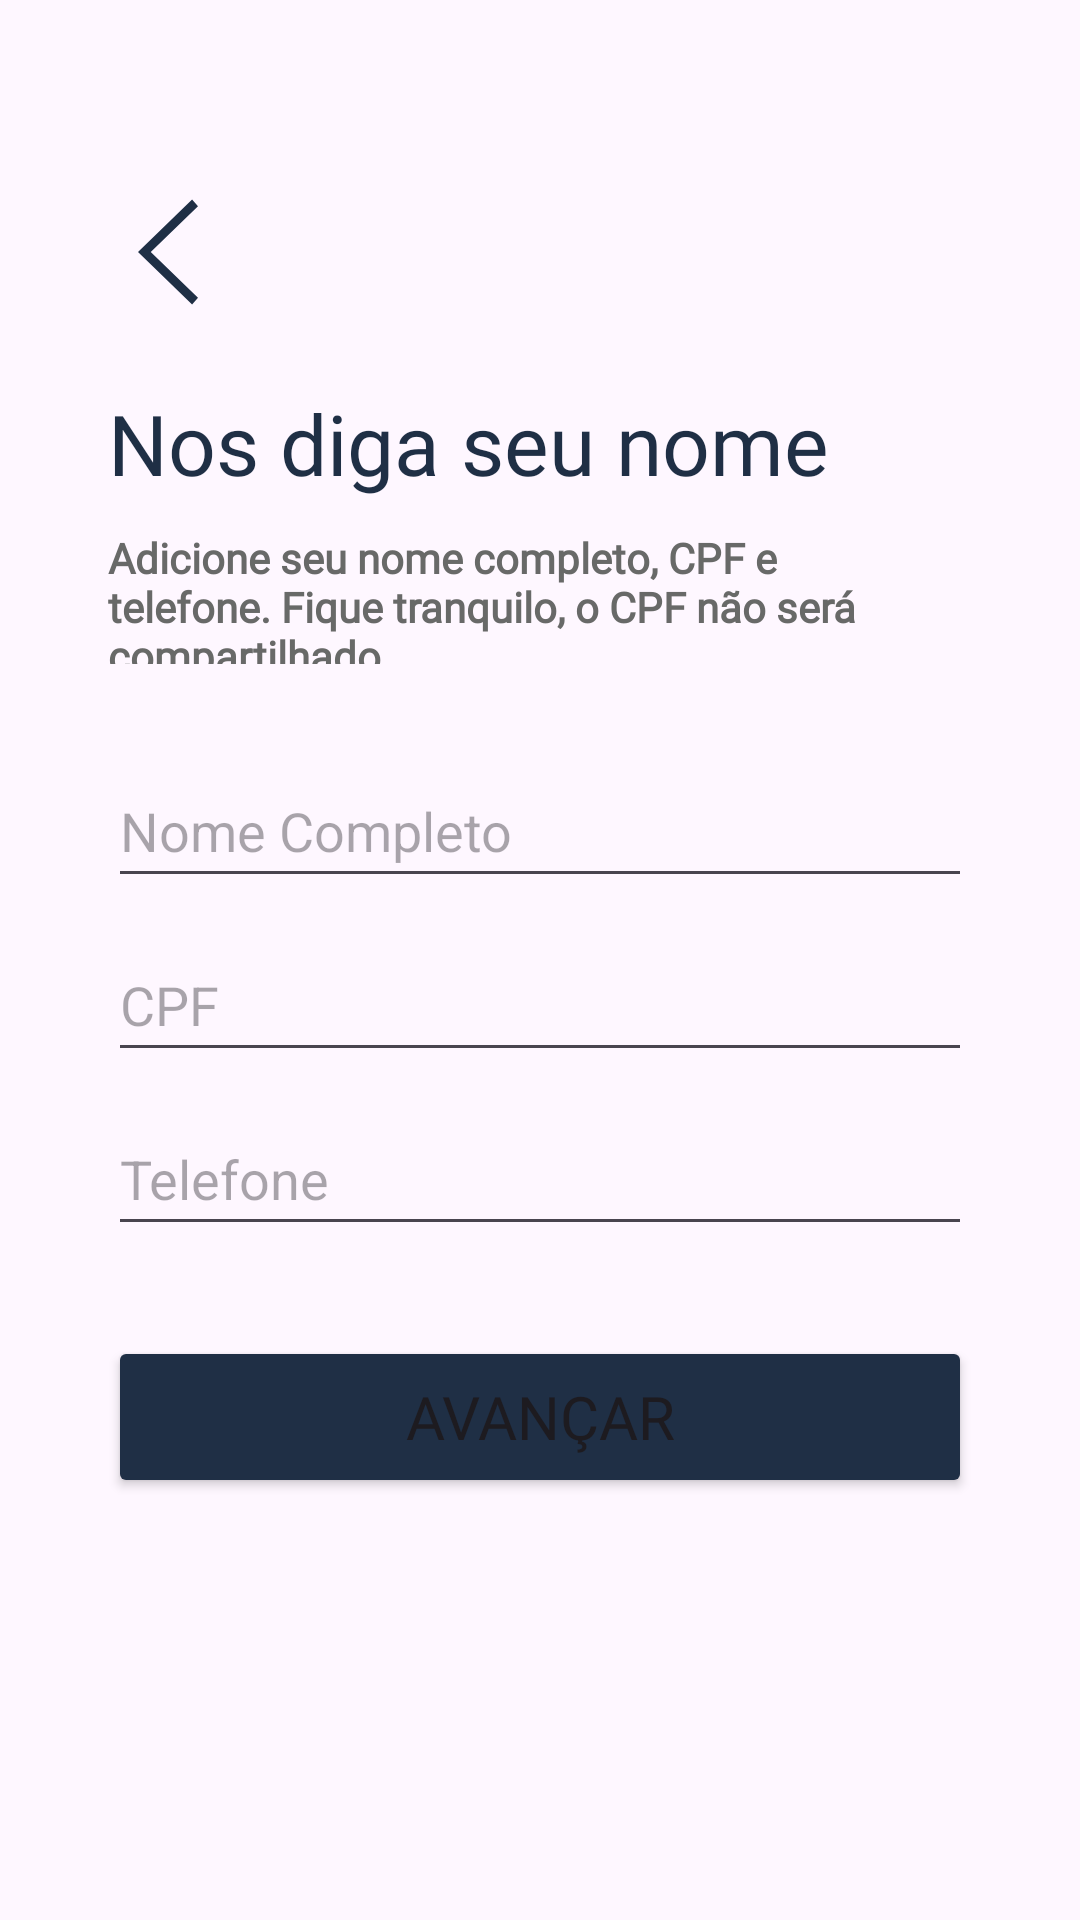

Icons on this 1080x1920 Android screen, each with the point to tap as (x,y):
icseta esquerda: (168,252)
